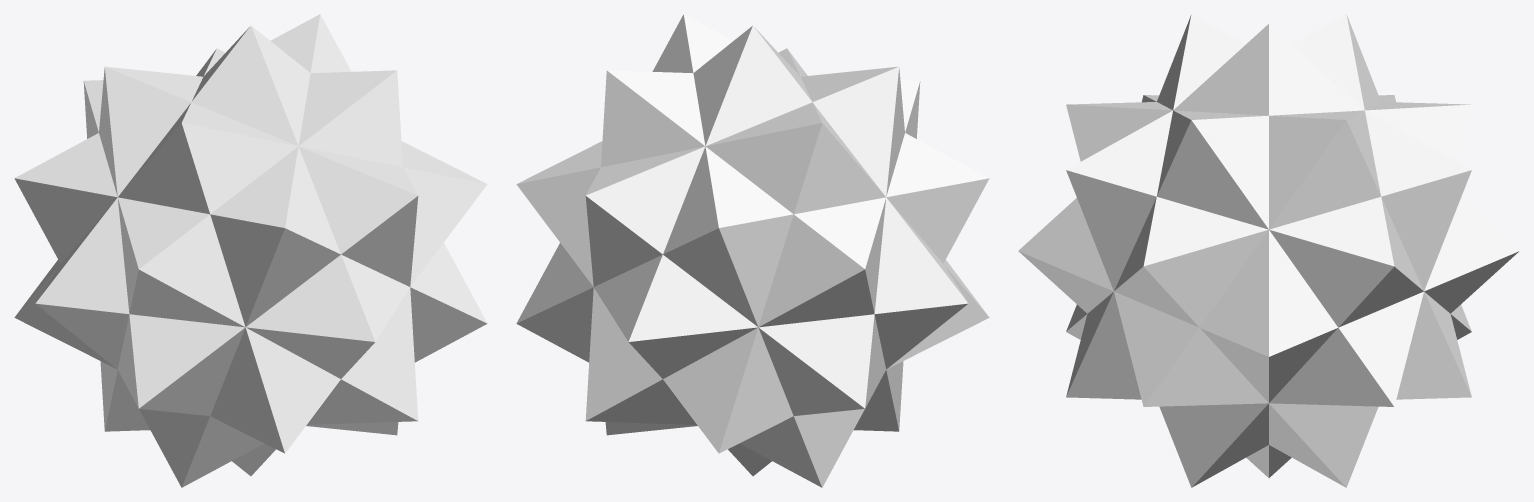
Rendered from 5-octahedra-compound.gltf.
The picture shows the model from 3 angles, left to right: view 1: azimuth 30°, elevation 25°; view 2: azimuth 150°, elevation 25°; view 3: azimuth 270°, elevation 25°; orthographic projection.
Parts seen in each view (by area): view 1: Octahedra 5; view 2: Octahedra 5; view 3: Octahedra 5.
Boxes of the visible parts, x1=… form: Octahedra 5: x1=14, y1=14, x2=487, y2=487; Octahedra 5: x1=516, y1=14, x2=989, y2=487; Octahedra 5: x1=1018, y1=14, x2=1519, y2=487.
Size of the model in its own units: 10 by 10 by 10.
Materials: 1 (1 with a texture image).
